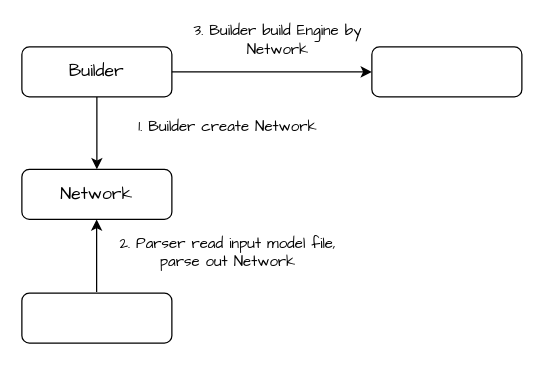
This 544x365 diagram has some shape labels left out. Each missing label, with the box of its shape:
Engine: (371, 46, 522, 97)
Parser: (21, 292, 172, 343)
